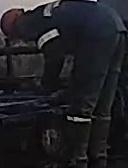helmet: (0, 7, 24, 43)
vest: (30, 0, 126, 55)
